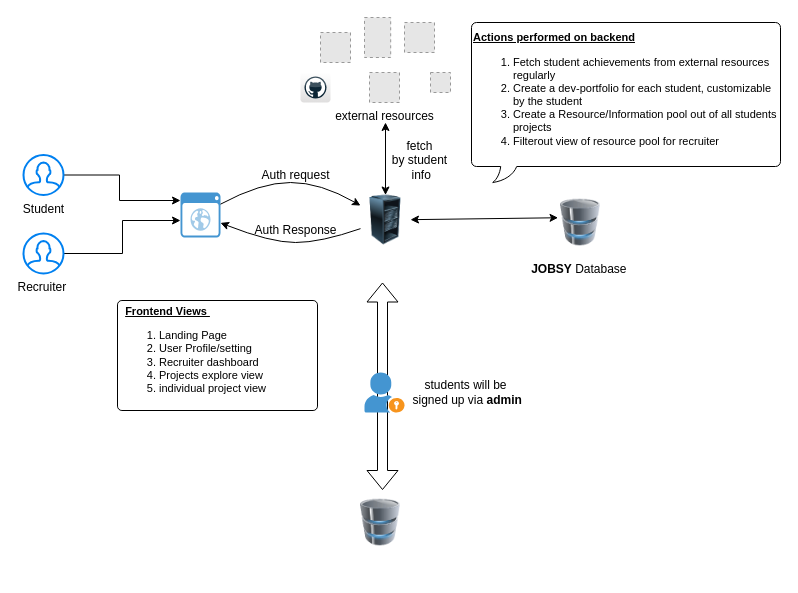
This 798x593 diagram has some shape labels left out. Grey dashed boxes stand in for pictures. The centre of each missing label's shape, as x and y in pixels:
"Backend Server runs on Fast API" goes at point (385, 219).
"DAIICT Student Database" goes at point (380, 522).
"User Interface using React.JS" goes at point (200, 214).
